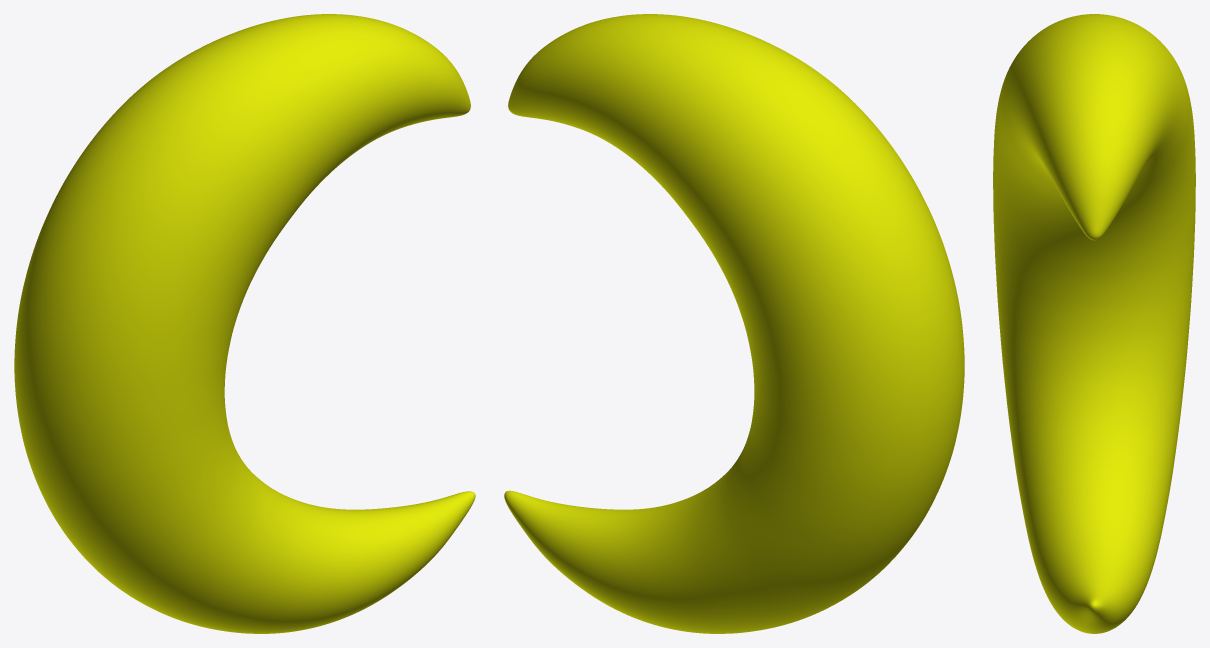
Rendered from moon.glb.
3 renders of one model, left to right at view 1: azimuth 30°, elevation 25°; view 2: azimuth 150°, elevation 25°; view 3: azimuth 270°, elevation 25°, orthographic. The views are drawn at different scales.
Parts seen in each view (by area): view 1: NurbsPath; view 2: NurbsPath; view 3: NurbsPath.
Part boxes in pixels (x1,y1,x2,y2): NurbsPath: (14, 14, 475, 633); NurbsPath: (504, 14, 964, 633); NurbsPath: (993, 14, 1195, 633).
Bounding box in the file's own units: 1.52 × 1.95 × 0.6323.
